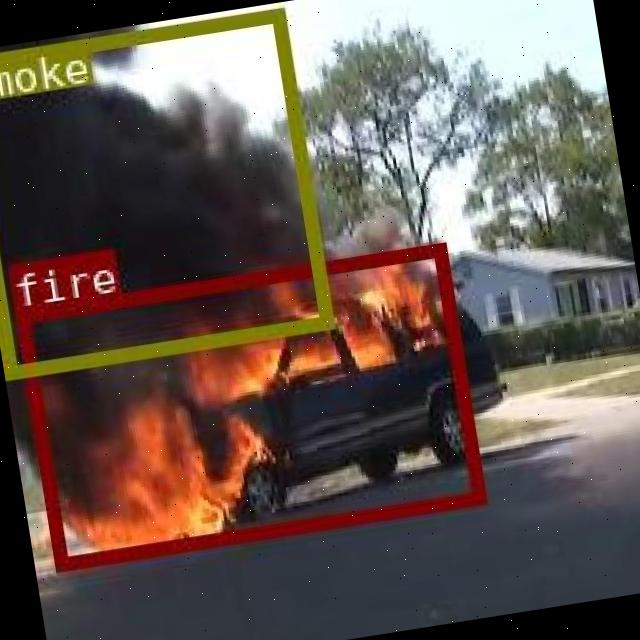fire: (12, 240, 484, 569)
smoke: (0, 6, 329, 376)
